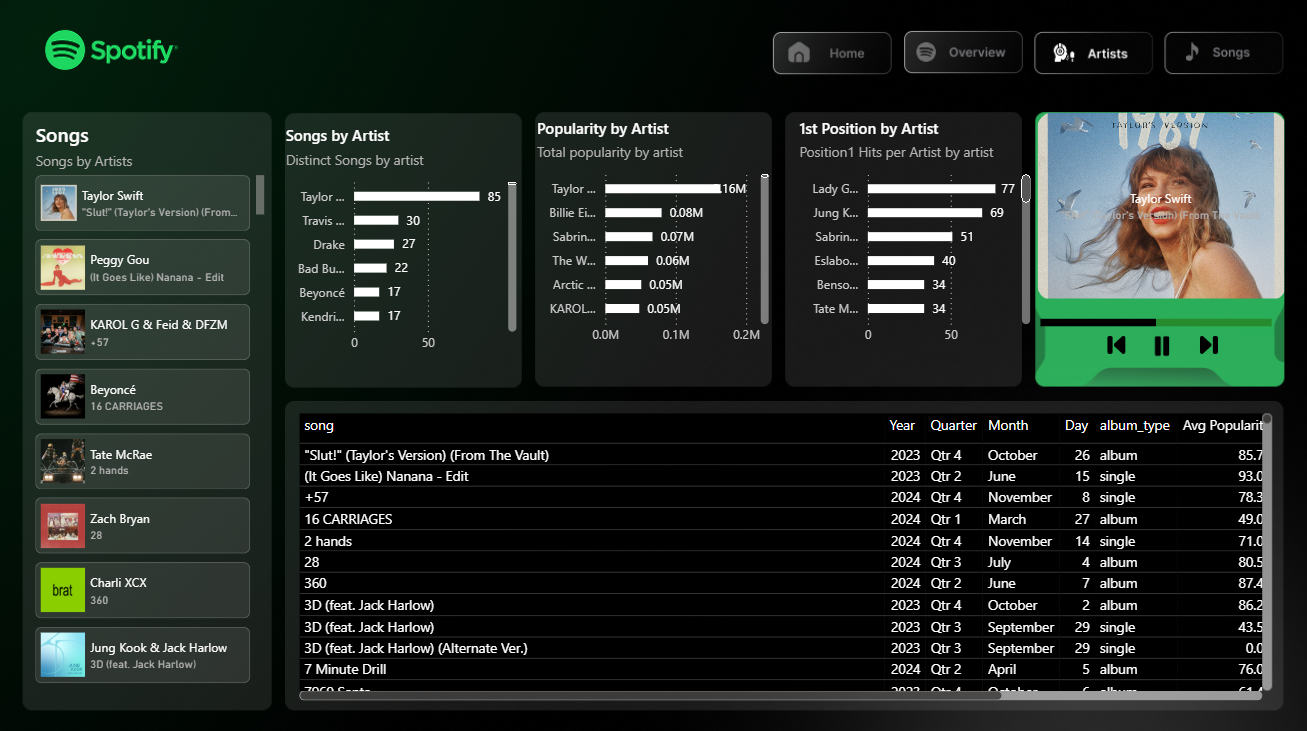

Layout of this report page (visuals, bound fields, positions):
{"tool":"powerbi","page":{"name":"Artist","canvas":[1280,720],"ordinal":2},"visuals":[{"type":"actionButton","box":[754.2,34.4,118.6,39.5],"z":0},{"type":"actionButton","box":[883.3,34.4,118.6,39.5],"z":1000},{"type":"actionButton","box":[1011.2,34.4,118.6,39.5],"z":2000},{"type":"actionButton","box":[1139.1,34.4,118.6,39.5],"z":3000},{"type":"advancedSlicerVisual","title":"Songs ","fields":{"Values":["Top-50-World.song"]},"box":[987.2,107,293,194.2],"z":4000},{"type":"hundredPercentStackedBarChart","fields":{"Y":["_Measures.Avg Popularity","Avg(Top-50-World.popularity)"]},"box":[1012.2,281.3,235.6,67.8],"z":5000},{"type":"image","box":[1161,326.2,40,30],"z":6000},{"type":"image","box":[1070.6,326.1,40,30],"z":7000},{"type":"image","box":[1110.9,319.1,50,44.7],"z":8000},{"type":"shape","box":[1002.3,107,258.1,283.7],"z":9000},{"type":"advancedSlicerVisual","title":"Songs ","fields":{"Values":["Top-50-World.song"]},"box":[31.4,122.1,233.7,560.5],"z":10000},{"type":"tableEx","fields":{"Values":["Top-50-World.song","Top-50-World.release_date.Variation.Date Hierarchy.Year","Top-50-World.release_date.Variation.Date Hierarchy.Quarter","Top-50-World.release_date.Variation.Date Hierarchy.Month","Top-50-World.release_date.Variation.Date Hierarchy.Day","Top-50-World.album_type","_Measures.Avg Popularity","Top-50-World.Max Popularity","Top-50-World.Min Popularity","_Measures.Avg Duration Minutes"]},"box":[288.3,402.9,959.9,289.6],"z":11000},{"type":"clusteredBarChart","title":"Popularity by Artist","fields":{"Y":["Sum(Top-50-World.popularity)"],"Category":["Top-50-World.artist"]},"box":[521.2,118.3,236.6,230.4],"z":12000},{"type":"clusteredBarChart","title":"1st Position by Artist","fields":{"Y":["Top-50-World.Position1 Hits per Artist"],"Category":["Top-50-World.artist"]},"box":[776.3,118.3,235.3,230.4],"z":13000},{"type":"clusteredBarChart","title":"Songs by Artist","fields":{"Category":["Top-50-World.artist"],"Y":["Top-50-World.Distinct Songs"]},"box":[276,125.7,235.3,230.4],"z":14000}]}

Visuals, with their boxes in screenshot pixels (x1, y1, x2, y2), scaled from the page's 1280x720 canvas onto the 1307x731 screenshot:
actionButton: Rect(770, 35, 891, 75)
actionButton: Rect(902, 35, 1023, 75)
actionButton: Rect(1033, 35, 1154, 75)
actionButton: Rect(1163, 35, 1284, 75)
"Songs " advancedSlicerVisual: Rect(1008, 109, 1306, 306)
hundredPercentStackedBarChart - _Measures.Avg Popularity x Avg(Top-50-World.popularity): Rect(1034, 286, 1274, 354)
image: Rect(1185, 331, 1226, 362)
image: Rect(1093, 331, 1134, 362)
image: Rect(1134, 324, 1185, 369)
shape: Rect(1023, 109, 1287, 397)
"Songs " advancedSlicerVisual: Rect(32, 124, 271, 693)
tableEx - Top-50-World.song x Top-50-World.release_date.Variation.Date Hierarchy.Year: Rect(294, 409, 1275, 703)
"Popularity by Artist" clusteredBarChart: Rect(532, 120, 774, 354)
"1st Position by Artist" clusteredBarChart: Rect(793, 120, 1033, 354)
"Songs by Artist" clusteredBarChart: Rect(282, 128, 522, 362)
